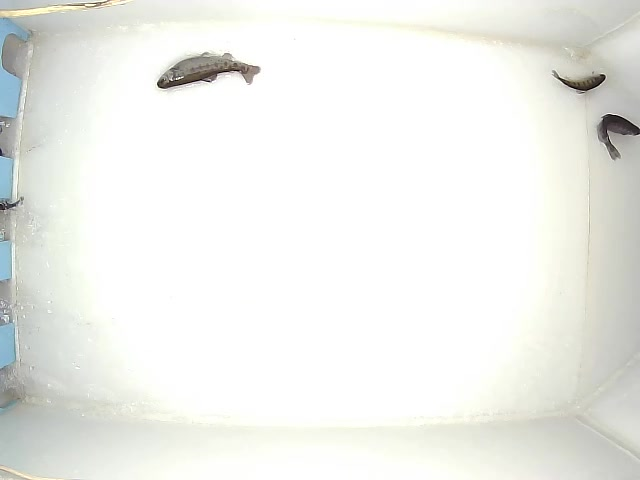fish: (157, 52, 261, 89), (597, 113, 640, 161), (551, 70, 606, 94)
